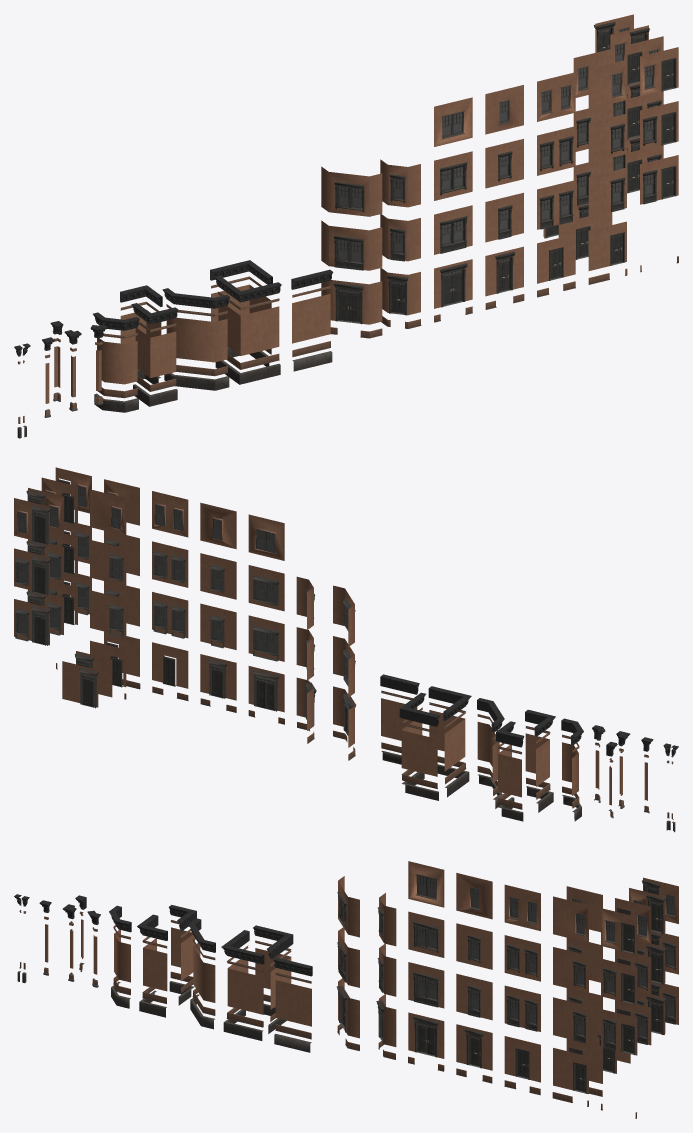
Rendered from modular_urban_apartments_facade.gltf.
The picture shows the model from 3 angles, top to bottom: view 1: azimuth 30°, elevation 25°; view 2: azimuth 150°, elevation 25°; view 3: azimuth 330°, elevation 25°; orthographic projection. The views are drawn at different scales.
Parts seen in each view (by area): view 1: wall_standard_corner_large_01, wall_standard_angled_large_01, wall_window_angled_large_02, wall_window_angled_large_01, wall_standard_corner_small_01, wall_standard_standard_01, wall_standard_angled_small_01, wall_window_offset_small_05, wall_window_centered_small_03, wall_window_centered_small_02, wall_door_angled_large_01, wall_window_angled_small_02 (+38 smaller); view 2: wall_standard_corner_large_02, wall_standard_corner_large_01, wall_window_centered_small_03, wall_window_offset_small_06, wall_window_centered_small_02, wall_window_offset_small_04, wall_window_centered_small_01, wall_window_offset_small_02, wall_window_centered_double_03, wall_door_centered_small_02, wall_window_centered_large_03, door_window_small_04 (+38 smaller); view 3: wall_standard_corner_large_01, wall_standard_standard_01, wall_window_centered_small_03, wall_window_offset_small_05, wall_window_centered_small_02, wall_window_offset_small_03, wall_window_centered_small_01, wall_window_centered_double_03, wall_door_centered_small_02, wall_standard_corner_small_01, wall_window_offset_small_01, wall_window_centered_large_03 (+58 smaller).
Boxes of the visible parts, left/top/right/bottom form: wall_standard_corner_large_01: left=218, top=306, right=279, bottom=355; wall_standard_angled_large_01: left=166, top=317, right=227, bottom=362; wall_window_angled_large_02: left=321, top=166, right=382, bottom=216; wall_window_angled_large_01: left=321, top=220, right=382, bottom=270; wall_standard_corner_small_01: left=135, top=328, right=176, bottom=377; wall_standard_standard_01: left=292, top=294, right=330, bottom=343; wall_standard_angled_small_01: left=97, top=338, right=137, bottom=384; wall_window_offset_small_05: left=588, top=59, right=626, bottom=109; wall_window_centered_small_03: left=485, top=85, right=523, bottom=134; wall_window_centered_small_02: left=485, top=139, right=523, bottom=188; wall_door_angled_large_01: left=321, top=280, right=382, bottom=324; wall_window_angled_small_02: left=380, top=159, right=420, bottom=207; wall_standard_corner_large_02: left=401, top=721, right=437, bottom=776; wall_standard_corner_large_01: left=429, top=710, right=465, bottom=771; wall_window_centered_small_03: left=200, top=502, right=236, bottom=549; wall_window_offset_small_06: left=90, top=489, right=126, bottom=535; wall_window_centered_small_02: left=200, top=553, right=236, bottom=599; wall_window_offset_small_04: left=90, top=540, right=126, bottom=586; wall_window_centered_small_01: left=200, top=603, right=236, bottom=649; wall_window_offset_small_02: left=90, top=590, right=126, bottom=636; wall_window_centered_double_03: left=152, top=491, right=188, bottom=537; wall_door_centered_small_02: left=152, top=642, right=188, bottom=688; wall_window_centered_large_03: left=248, top=514, right=284, bottom=560; door_window_small_04: left=14, top=605, right=51, bottom=645; wall_standard_corner_large_01: left=227, top=959, right=263, bottom=1014; wall_standard_standard_01: left=275, top=980, right=311, bottom=1026; wall_window_centered_small_03: left=456, top=873, right=492, bottom=919; wall_window_offset_small_05: left=553, top=896, right=588, bottom=942; wall_window_centered_small_02: left=456, top=923, right=492, bottom=969; wall_window_offset_small_03: left=553, top=947, right=588, bottom=993; wall_window_centered_small_01: left=456, top=973, right=492, bottom=1020; wall_window_centered_double_03: left=504, top=884, right=540, bottom=930; wall_door_centered_small_02: left=504, top=1036, right=540, bottom=1082; wall_standard_corner_small_01: left=143, top=938, right=167, bottom=991; wall_window_offset_small_01: left=553, top=997, right=588, bottom=1043; wall_window_centered_large_03: left=408, top=861, right=444, bottom=907.
Bounding box in the file's own units: 51.53 × 17 × 6.67.
Materials: 5 (5 with a texture image).
